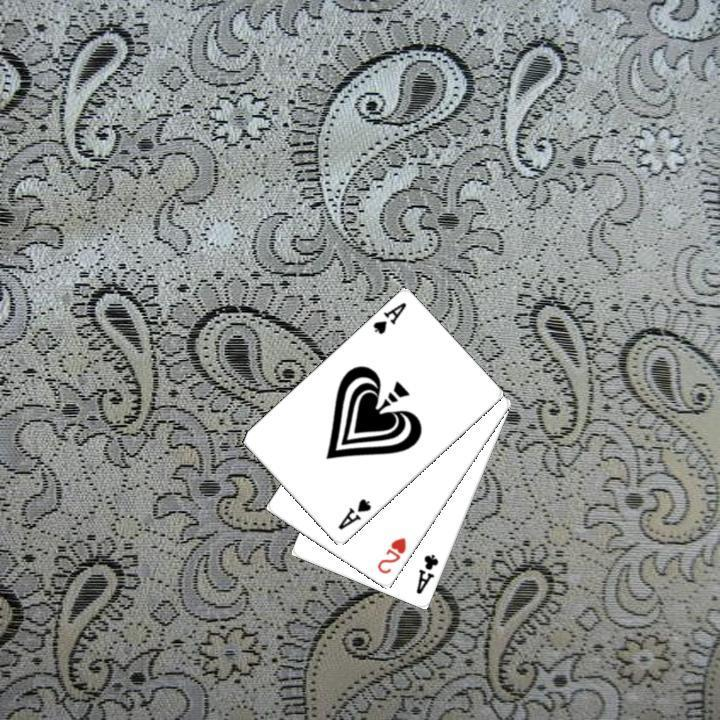2: (373, 533, 408, 576)
A: (368, 298, 409, 337), (334, 495, 373, 532), (412, 550, 441, 596)
